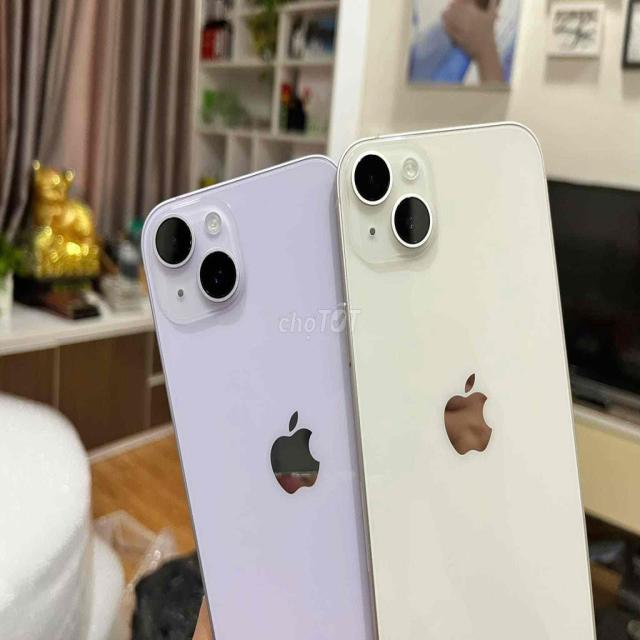gen_14: (342, 124, 606, 640), (124, 150, 348, 640)
